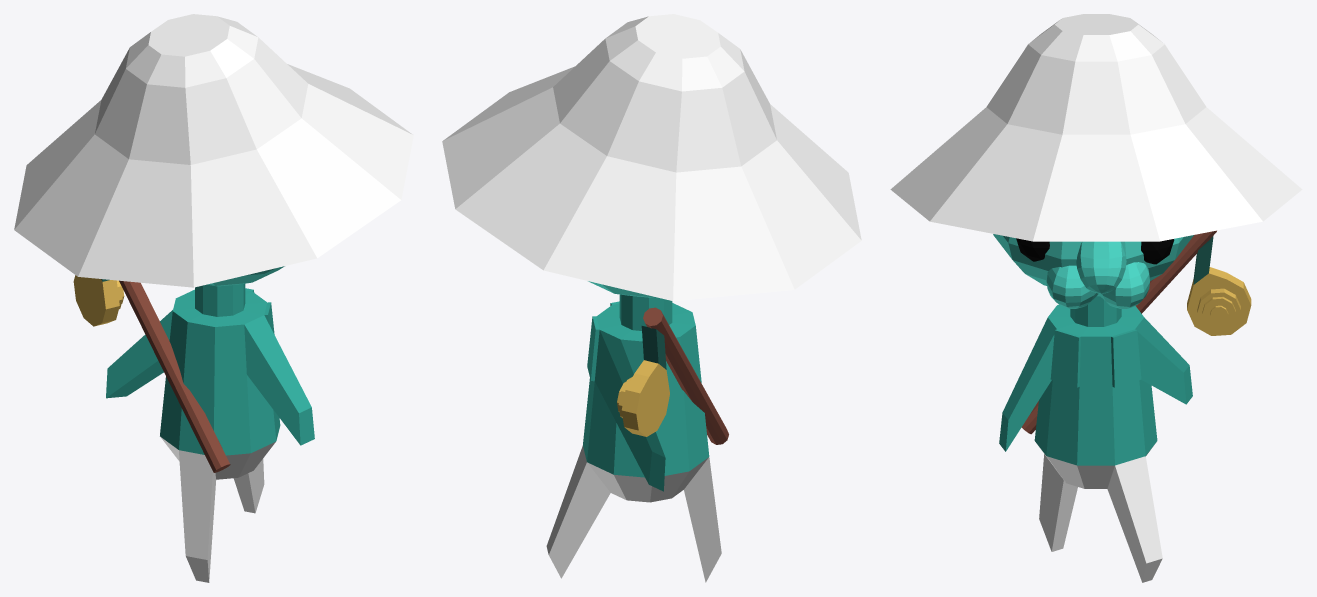
The model's file is gato pitufo.fbx.
3 renders of one model, left to right at view 1: azimuth 30°, elevation 25°; view 2: azimuth 150°, elevation 25°; view 3: azimuth 270°, elevation 25°, orthographic. The views are drawn at different scales.
Parts seen in each view (by area): view 1: Gato Pitufo; view 2: Gato Pitufo; view 3: Gato Pitufo.
Part boxes in pixels (x1=…): Gato Pitufo: x1=14, y1=14, x2=413, y2=582; Gato Pitufo: x1=442, y1=14, x2=861, y2=582; Gato Pitufo: x1=890, y1=14, x2=1302, y2=582.
Size of the model in its own units: 79.64 by 122 by 84.93.
